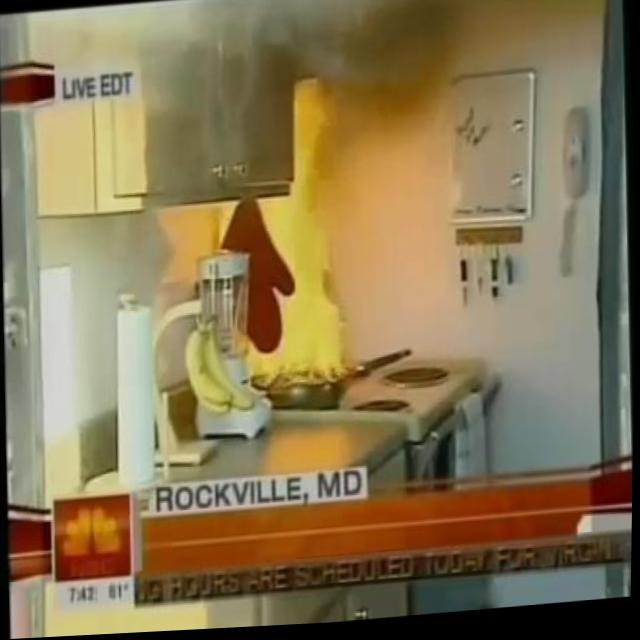fire: (246, 146, 348, 391)
